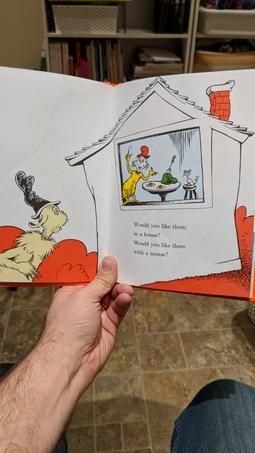text block: (125, 217, 196, 266)
